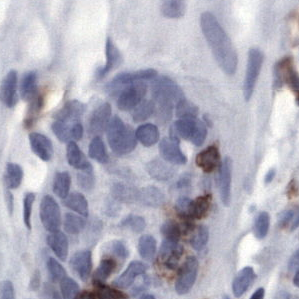Lymphocyte: (195, 146, 221, 175)
